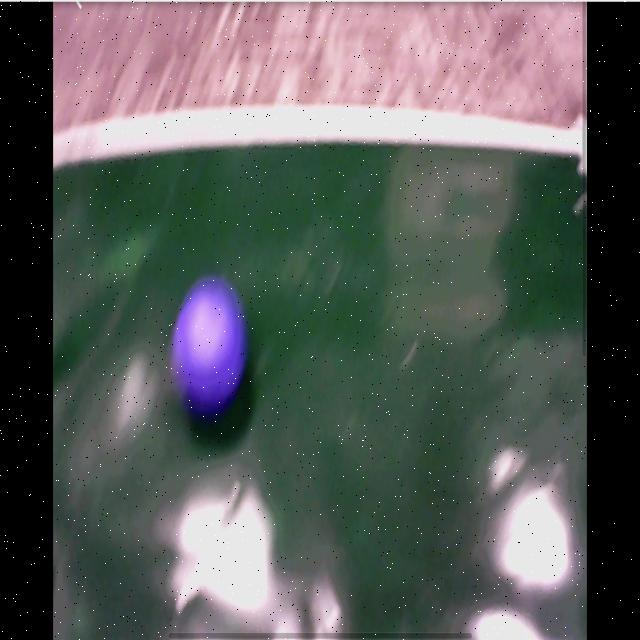ball: (174, 285, 245, 412)
